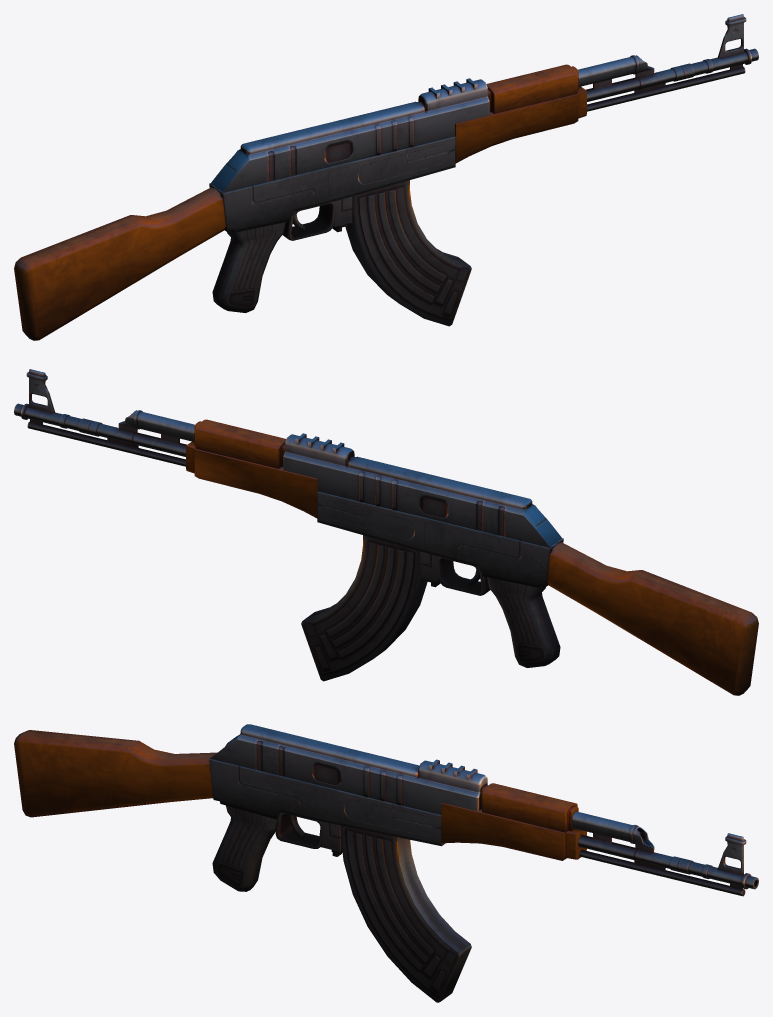
3 views of the same model, one above another, from view 1: azimuth 30°, elevation 25°; view 2: azimuth 150°, elevation 25°; view 3: azimuth 330°, elevation 25° (orthographic).
Visible parts, largest first — view 1: ak47_3, akderriere_low_0, akmagazine_low_1; view 2: ak47_3, akderriere_low_0, akmagazine_low_1; view 3: ak47_3, akderriere_low_0, akmagazine_low_1.
Boxes of the visible parts, left/top/right/bottom form: ak47_3: left=209, top=14, right=758, bottom=312; akderriere_low_0: left=14, top=187, right=226, bottom=340; akmagazine_low_1: left=345, top=180, right=471, bottom=326; ak47_3: left=14, top=369, right=563, bottom=667; akderriere_low_0: left=546, top=542, right=758, bottom=695; akmagazine_low_1: left=301, top=535, right=427, bottom=681; ak47_3: left=209, top=724, right=758, bottom=896; akderriere_low_0: left=14, top=730, right=216, bottom=817; akmagazine_low_1: left=340, top=825, right=471, bottom=1002.
Size of the model in its own units: 0.743 by 0.2256 by 0.0253.
1 material, 1 textured.
